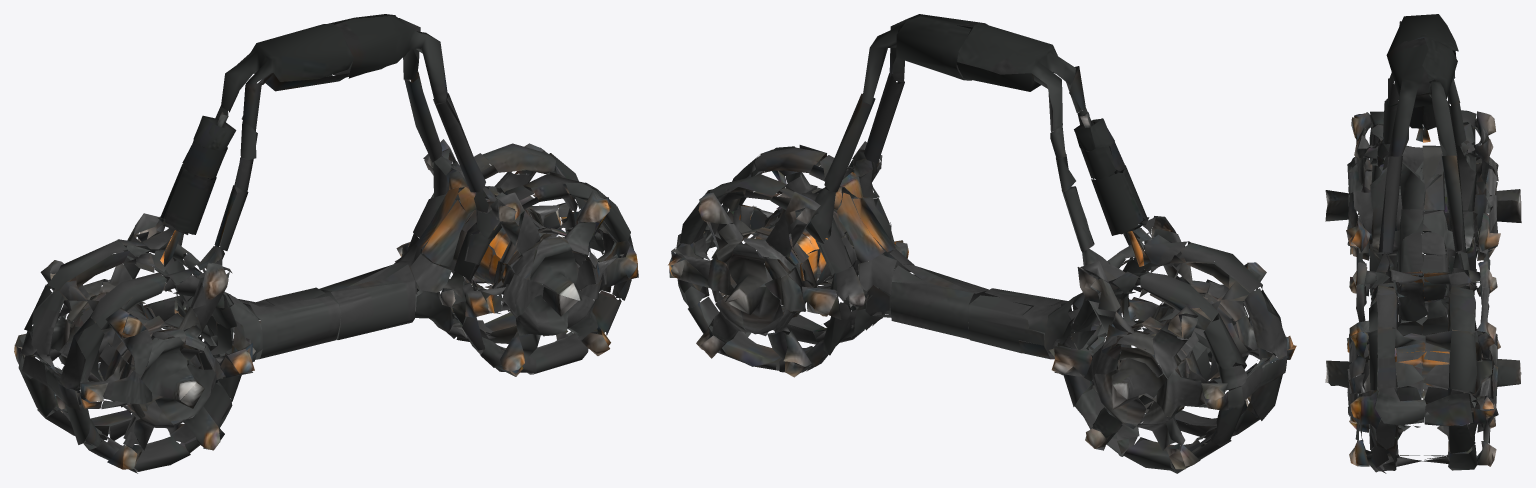
The model's file is zipline-trolley-meshy-low.glb.
3 views of the same model, side by side, from view 1: azimuth 30°, elevation 25°; view 2: azimuth 150°, elevation 25°; view 3: azimuth 270°, elevation 25° (orthographic). The views are drawn at different scales.
Parts seen in each view (by area): view 1: Mesh_0.014; view 2: Mesh_0.014; view 3: Mesh_0.014.
Part boxes in pixels (<box>): Mesh_0.014: <box>14,14,638,473</box>; Mesh_0.014: <box>668,14,1296,473</box>; Mesh_0.014: <box>1325,14,1521,473</box>.
Size of the model in its own units: 1.91 by 1.21 by 0.624.
Materials: 1 (1 with a texture image).
